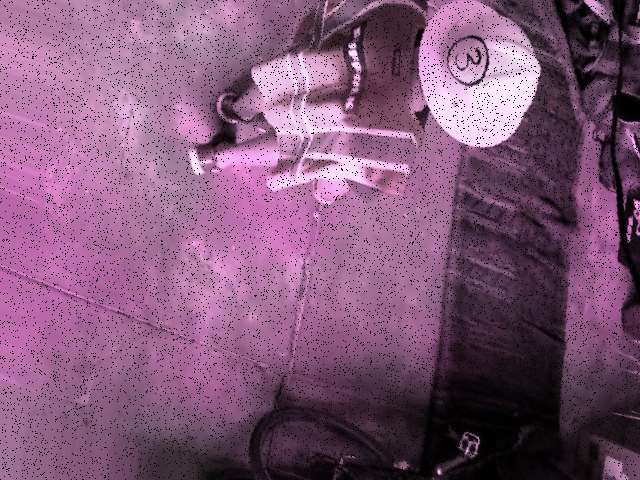three: (444, 28, 491, 90)
